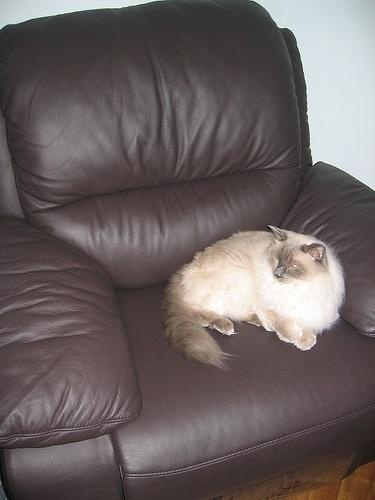cat: (162, 224, 349, 368)
chair: (1, 2, 374, 500)
